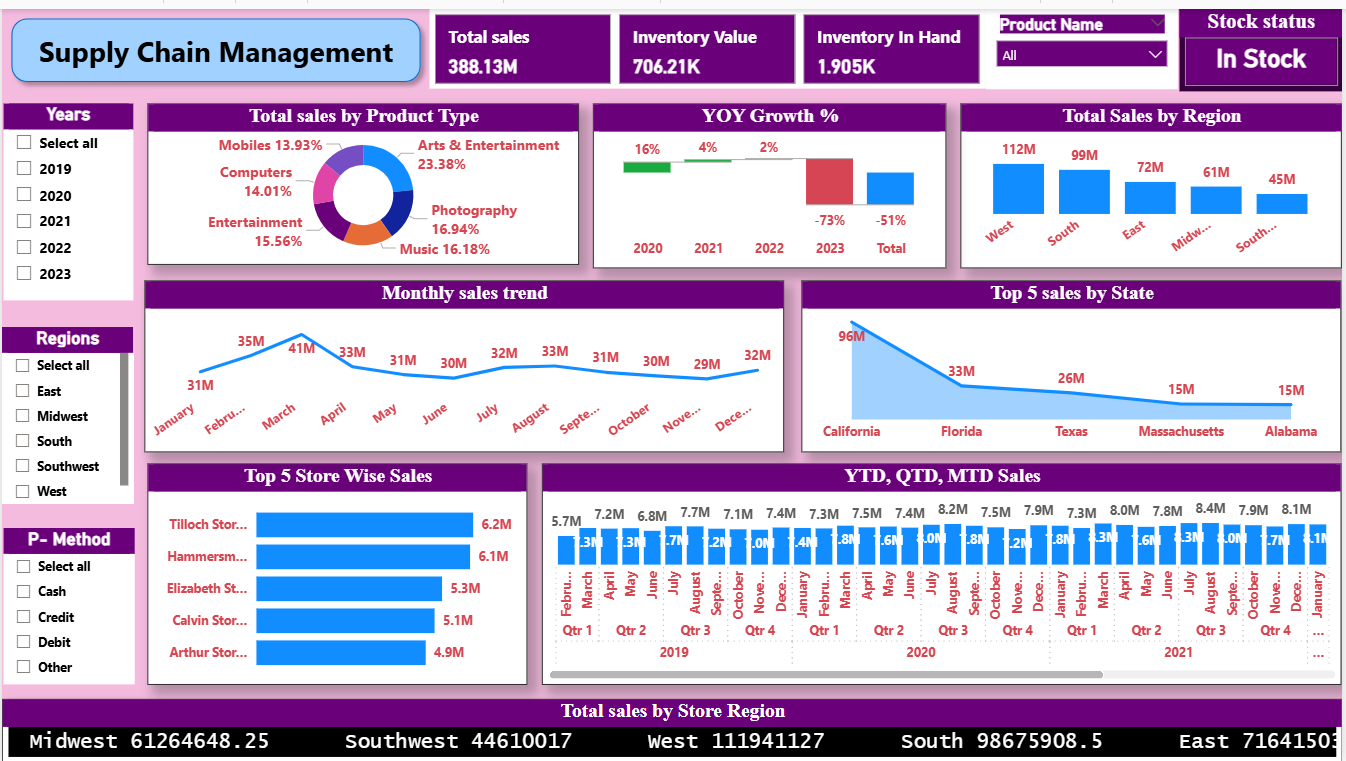

What the dashboard file says about the page in this screenshot:
{"tool":"powerbi","page":{"name":"Dashboard","canvas":[1280,720],"ordinal":0},"visuals":[{"type":"shape","box":[0,0,408.8,78.8],"z":0},{"type":"columnChart","title":"Total Sales by Region","fields":{"Category":["D Store.Store Region"],"Y":["Calnder.Total sales"]},"box":[914.6,90.7,364.2,157.5],"z":1000},{"type":"donutChart","fields":{"Category":["D Product.Product Type"],"Y":["Calnder.Total sales"]},"box":[138.4,90.7,412,154.3],"z":2000},{"type":"slicer","title":"Regions","fields":{"Values":["D Store.Store Region"]},"box":[0,303.8,125.7,168.6],"z":3000},{"type":"cardVisual","title":"Stock status","fields":{"Data":["Min(F Inventory.Stock Status)"]},"box":[1123.8,0,156.2,78.8],"z":4000},{"type":"areaChart","title":"Top 5 sales by State","fields":{"Category":["D Store.Store State"],"Y":["Calnder.Total sales"]},"box":[763.5,259.3,515.4,163.8],"z":5000},{"type":"slicer","title":"P- Method","fields":{"Values":["Sheet1.Purchase Method"]},"box":[1.6,496.3,125.7,149.5],"z":6000},{"type":"slicer","title":"Years","fields":{"Values":["Sheet1.Date.Variation.Date Hierarchy.Year"]},"box":[1.6,90.7,124.1,187.7],"z":7000},{"type":"barChart","title":"Top 5 Store Wise Sales","fields":{"Category":["D Store.Store Name"],"Y":["Sum(Sheet1 (2).Sales Amount)"]},"box":[138.4,434.2,362.7,211.6],"z":8000},{"type":"waterfallChart","title":"YOY Growth %","fields":{"Category":["Sheet1.Date.Variation.Date Hierarchy.Year"],"Y":["Calnder.YOY%"]},"box":[564.7,90.7,337.2,157.5],"z":9000},{"type":"columnChart","title":"YTD, QTD, MTD Sales","fields":{"Category":["Sheet1.Date.Variation.Date Hierarchy.Year","Sheet1.Date.Variation.Date Hierarchy.Quarter","Sheet1.Date.Variation.Date Hierarchy.Month"],"Y":["Sum(Sheet1 (2).Sales Amount)"]},"box":[515.4,434.2,763.5,211.6],"z":10000},{"type":"lineChart","title":"Monthly sales trend ","fields":{"Category":["Sheet1.Date.Variation.Date Hierarchy.Month"],"Y":["Sum(Sheet1 (2).Sales Amount)"]},"box":[136.8,259.3,610.8,163.8],"z":11000},{"type":"slicer","fields":{"Values":["D Product.Product Name"]},"box":[940,0,183.3,76.7],"z":12000},{"type":"ScrollingTextVisual1448795304508","fields":{"Measure Absolute":["Calnder.Total sales"],"Category":["D Store.Store Region"]},"box":[0,658.3,1280,61.7],"z":13000},{"type":"cardVisual","fields":{"Data":["Calnder.Total sales","F Inventory.Inventory Value","F Inventory.Inventory In Hand"]},"box":[408.8,0,531.2,76.2],"z":14000}]}

Visuals, with their boxes in screenshot pixels (x1, y1, x2, y2), scaled from the page's 1280x720 canvas onto the 1346x761 screenshot:
shape: region(0, 0, 430, 83)
"Total Sales by Region" columnChart: region(962, 96, 1345, 262)
donutChart - D Product.Product Type x Calnder.Total sales: region(146, 96, 579, 259)
"Regions" slicer: region(0, 321, 132, 499)
"Stock status" cardVisual: region(1182, 0, 1345, 83)
"Top 5 sales by State" areaChart: region(803, 274, 1345, 447)
"P- Method" slicer: region(2, 525, 134, 683)
"Years" slicer: region(2, 96, 132, 294)
"Top 5 Store Wise Sales" barChart: region(146, 459, 527, 683)
"YOY Growth %" waterfallChart: region(594, 96, 948, 262)
"YTD, QTD, MTD Sales" columnChart: region(542, 459, 1345, 683)
"Monthly sales trend " lineChart: region(144, 274, 786, 447)
slicer - D Product.Product Name: region(988, 0, 1181, 81)
ScrollingTextVisual1448795304508 - Calnder.Total sales x D Store.Store Region: region(0, 696, 1345, 760)
cardVisual - Calnder.Total sales x F Inventory.Inventory Value: region(430, 0, 988, 81)
